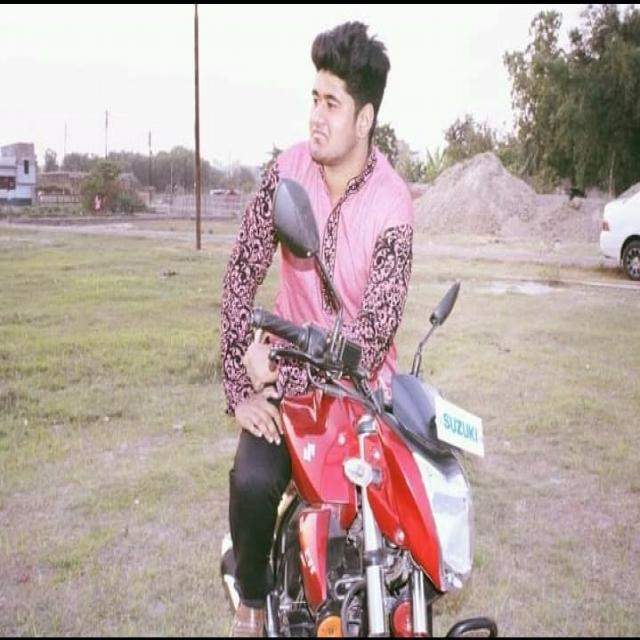No helmet: (307, 29, 393, 176)
